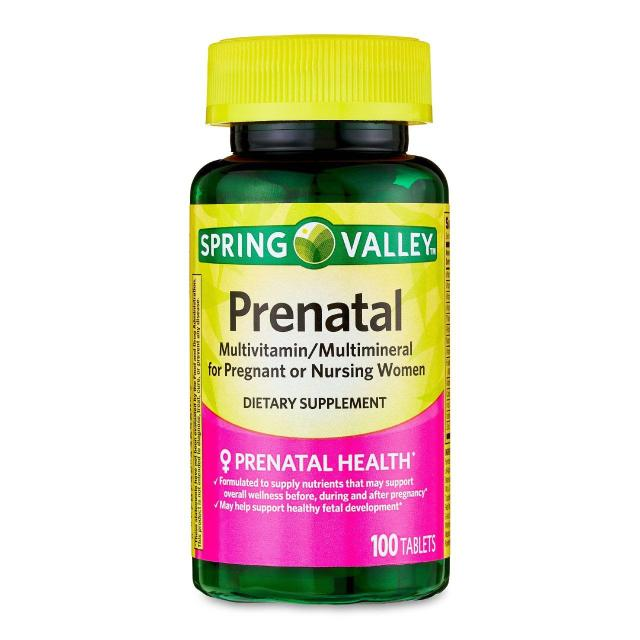pregnancy: (198, 205, 452, 570)
